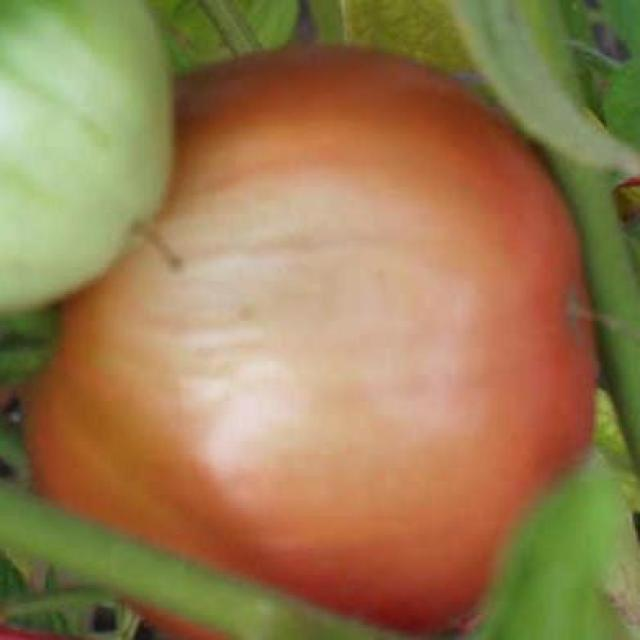Sunscald Fruit: (81, 80, 343, 354)
